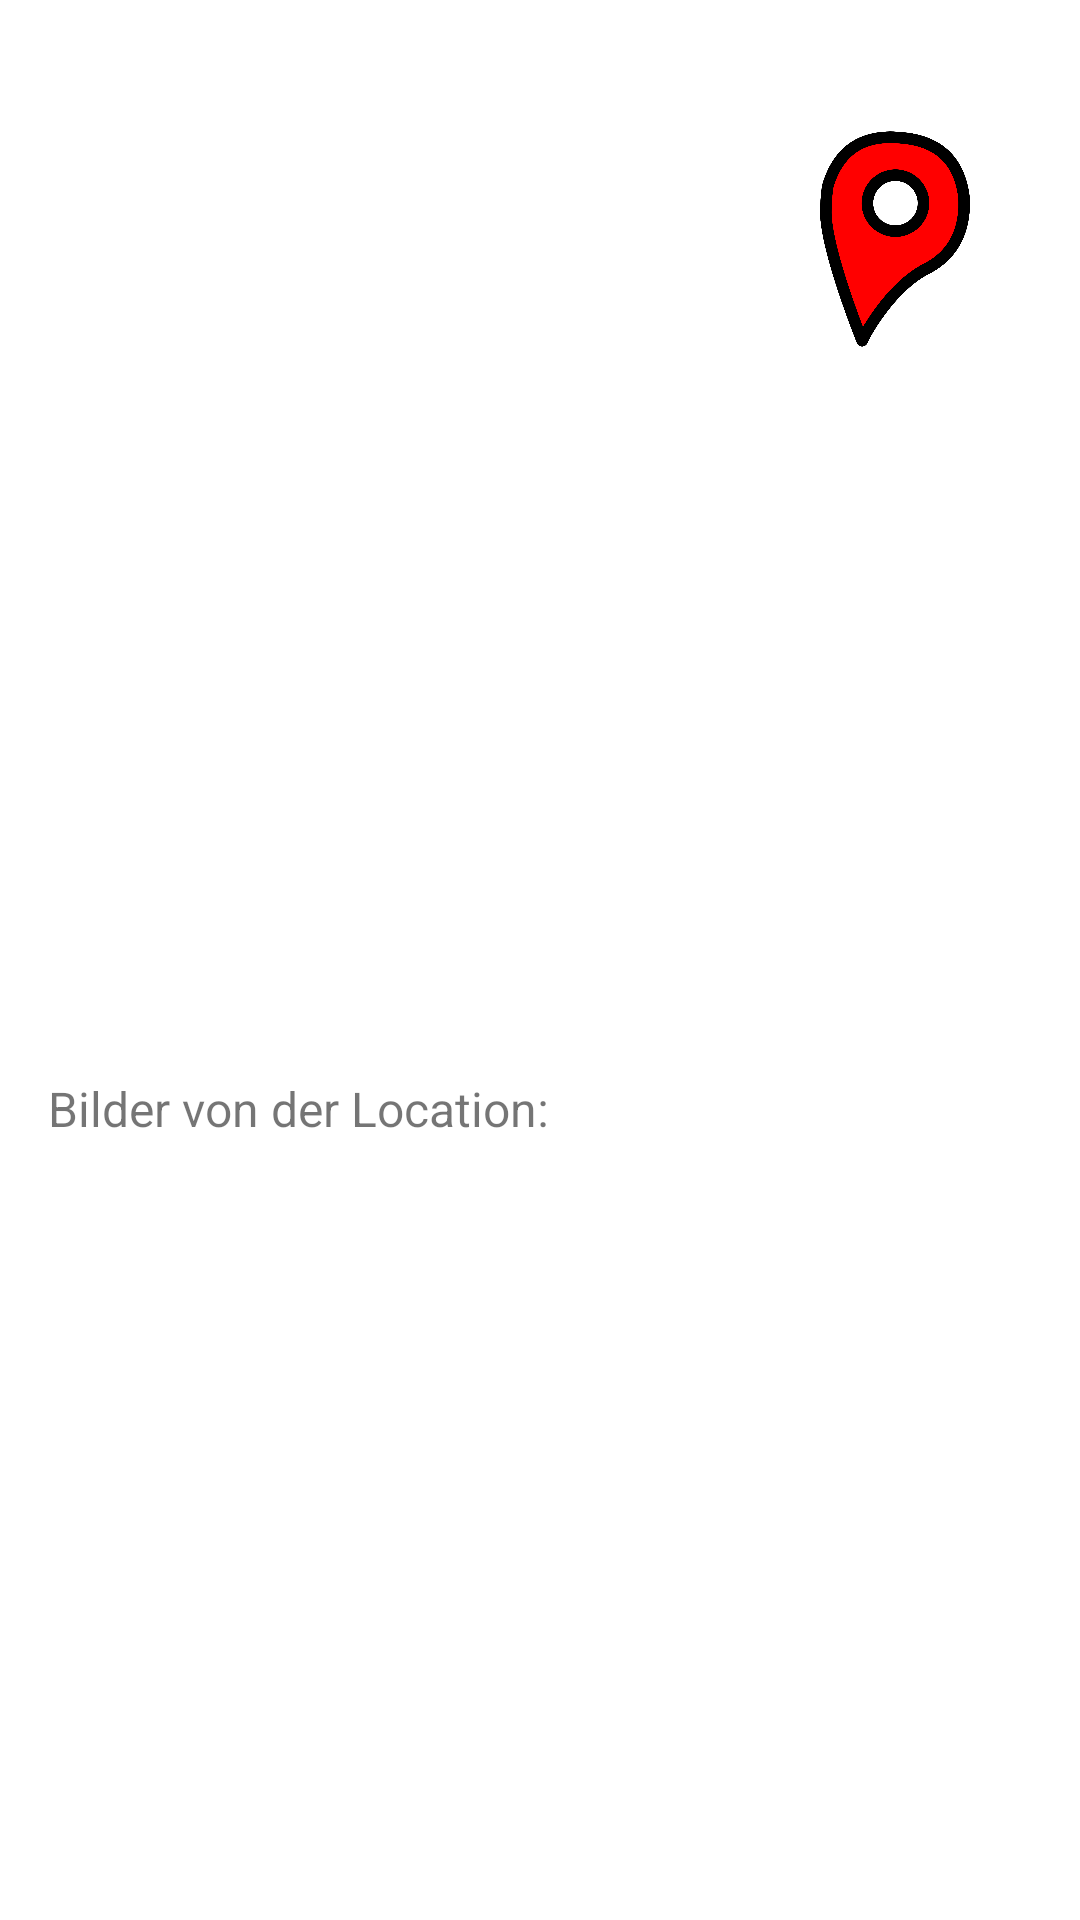

Point at icon controls on the screen. Image size 1080 × 1920, points as (x,y).
marker bounded hr: (895,239)
